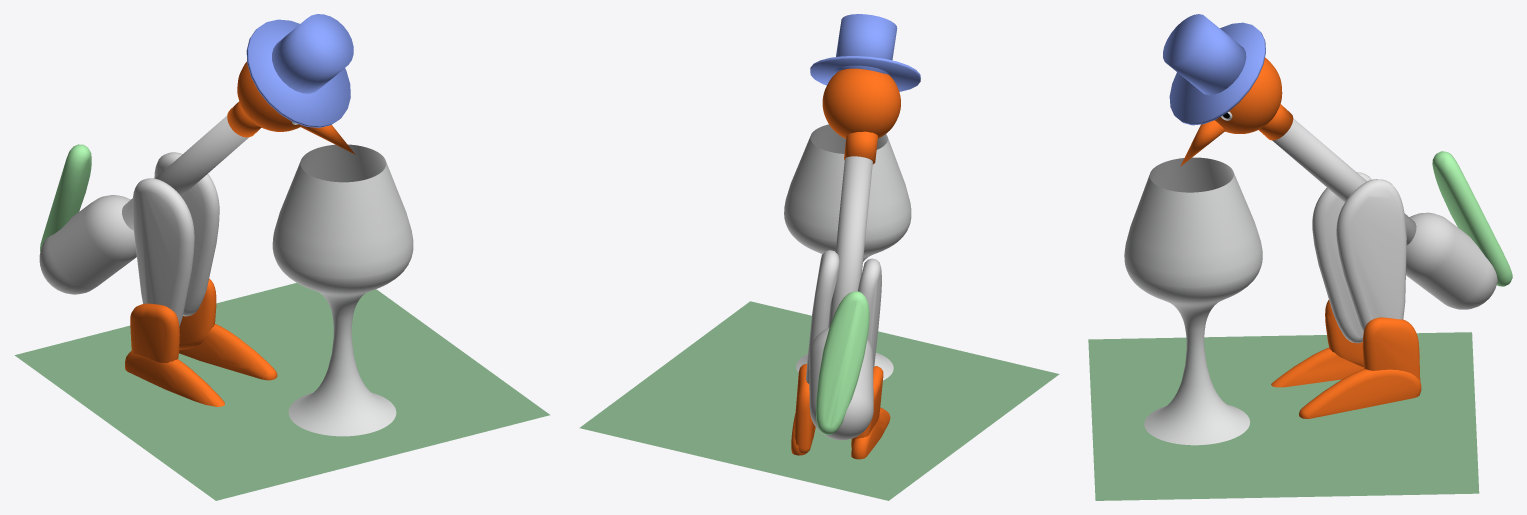
Rendered from dippybird.glb.
3 renders of one model, left to right at view 1: azimuth 30°, elevation 25°; view 2: azimuth 150°, elevation 25°; view 3: azimuth 270°, elevation 25°, orthographic. The views are drawn at different scales.
Parts seen in each view (by area): view 1: dippybird; view 2: dippybird; view 3: dippybird.
Boxes of the visible parts, x1=… form: dippybird: x1=14, y1=14, x2=549, y2=500; dippybird: x1=579, y1=14, x2=1059, y2=500; dippybird: x1=1088, y1=14, x2=1512, y2=500.
Bounding box in the file's own units: 2.1 × 2.43 × 2.28.
